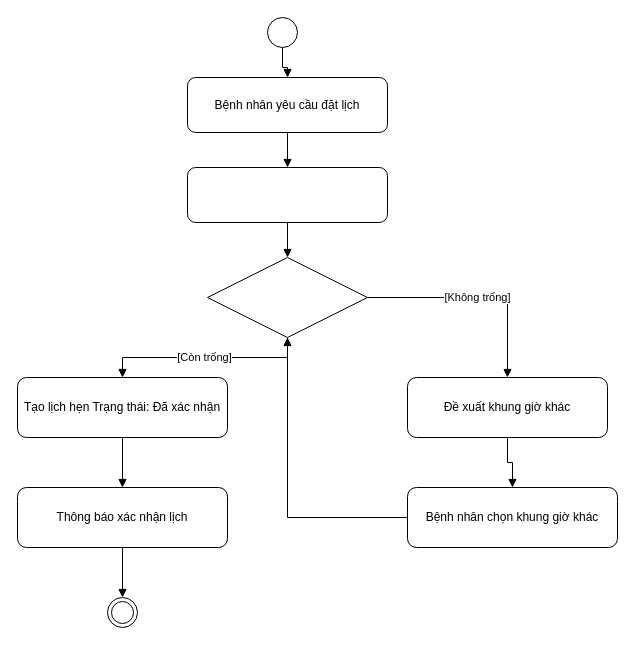
This 635x645 diagram has some shape labels left out. The shapes that lost their labels are listed below. From the top down, each one's centre as x and y in pixels, then its label:
[287,194]: Lễ tân tiếp nhận yêu cầu
[287,297]: Kiểm tra lịch trống
